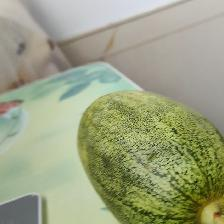gua: (93, 109, 202, 213)
